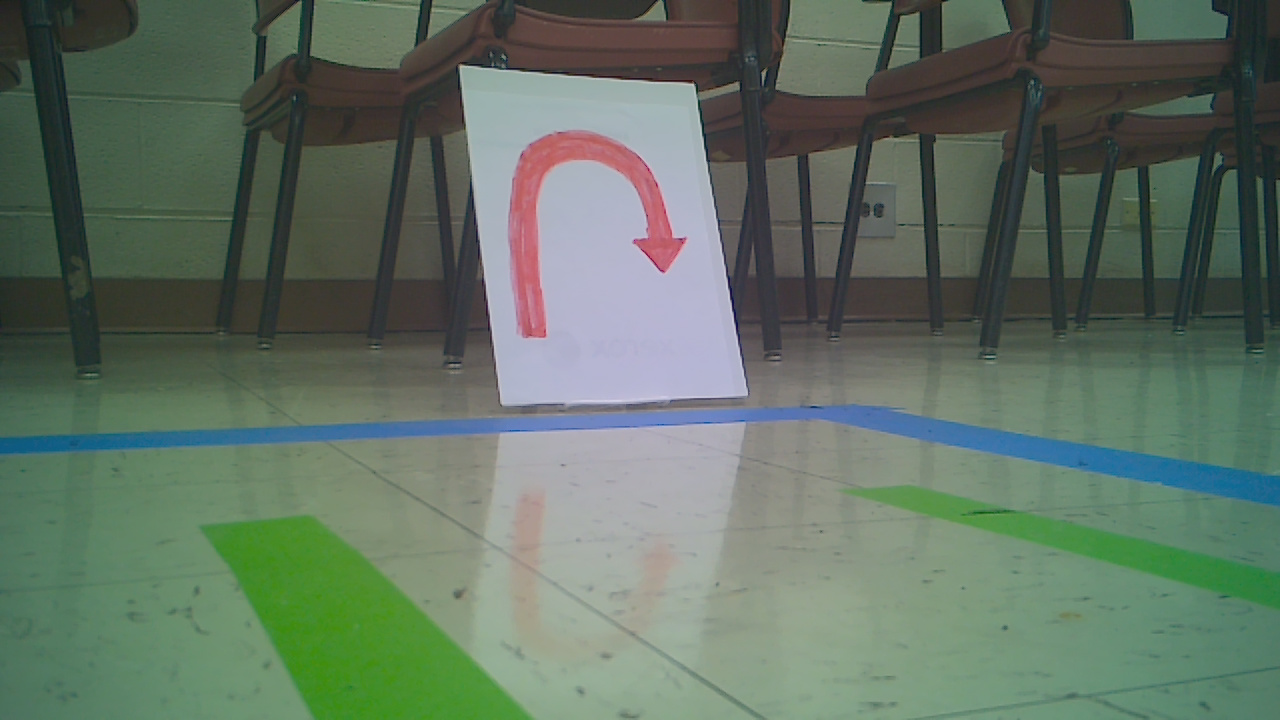greenline: (196, 517, 536, 720), (850, 487, 1270, 590)
uturn: (509, 126, 692, 338)
